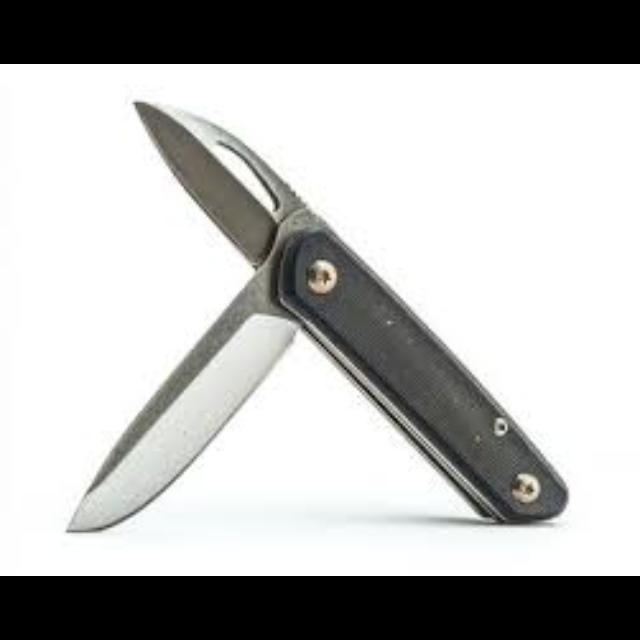knife: (64, 98, 568, 530)
